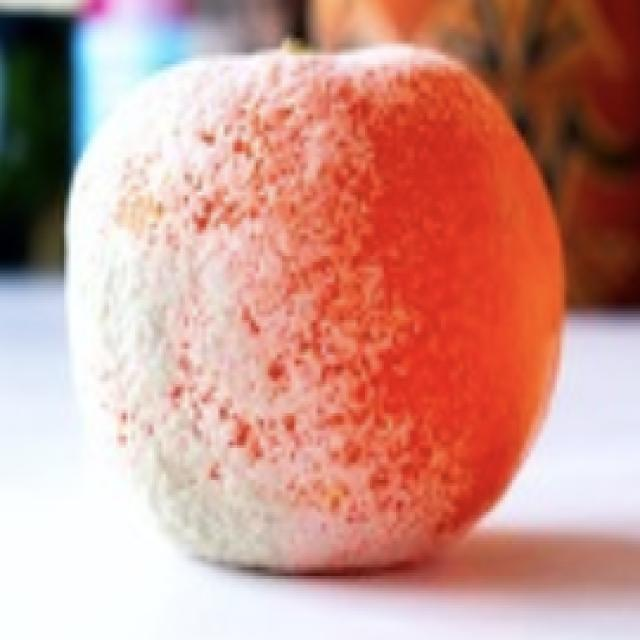sedikit-busuk: (67, 46, 562, 569)
